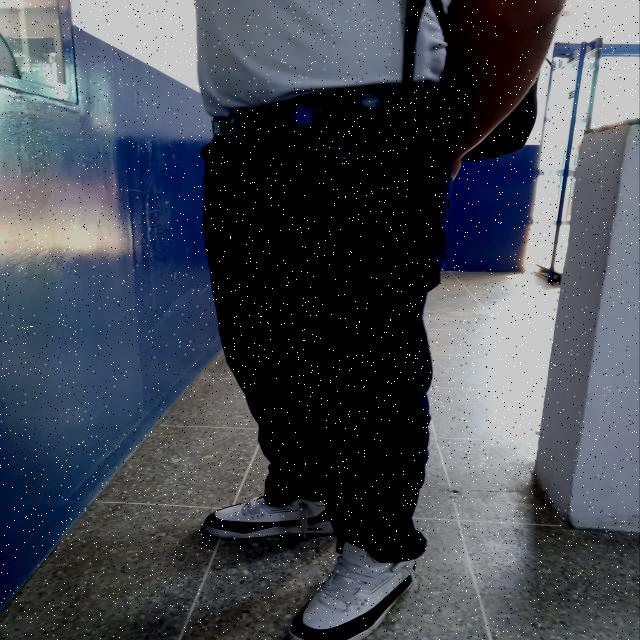pantalon_oscuro: (199, 98, 455, 564)
